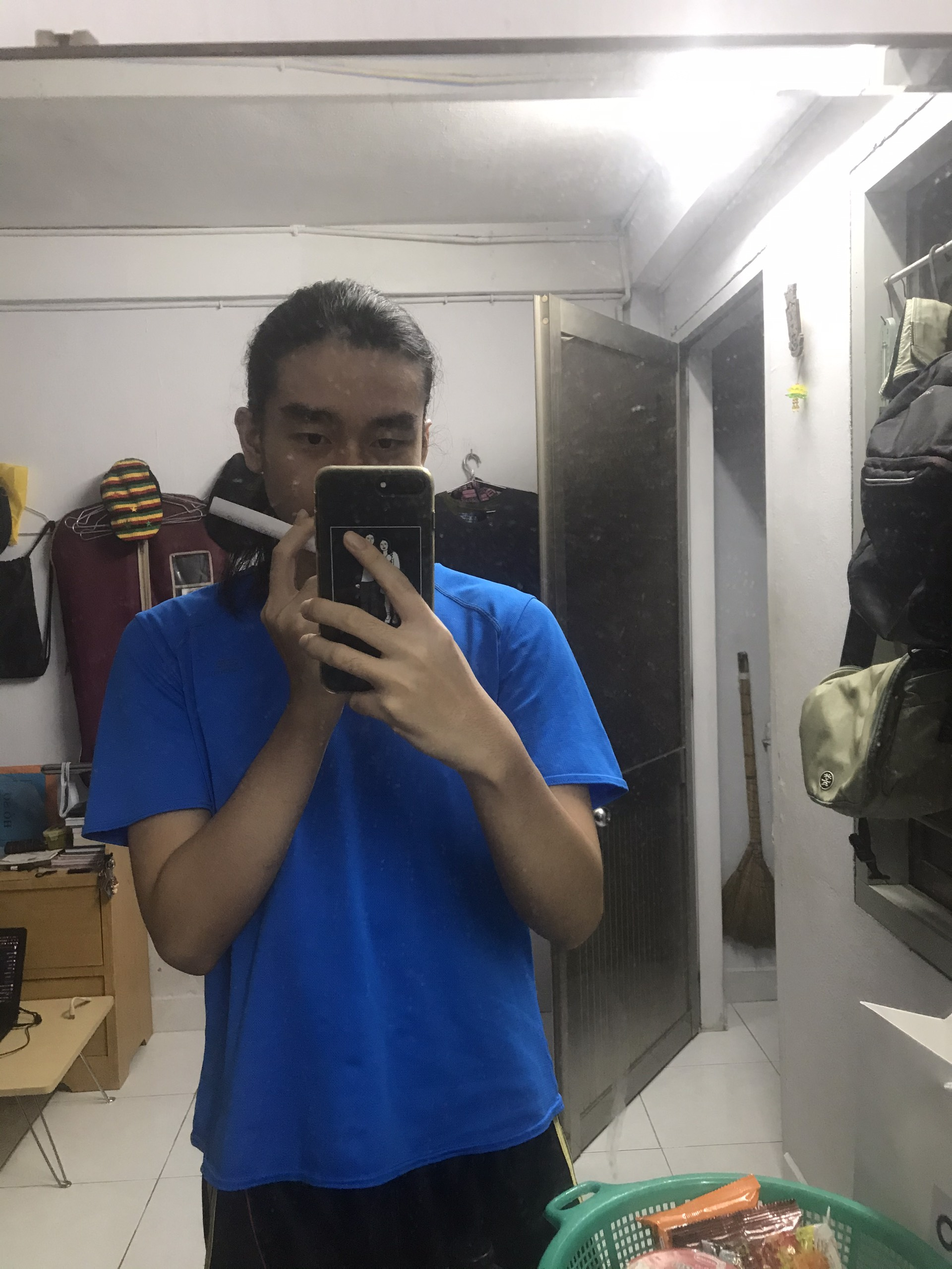cigarette: (201, 490, 298, 542)
person: (63, 256, 643, 1269)
